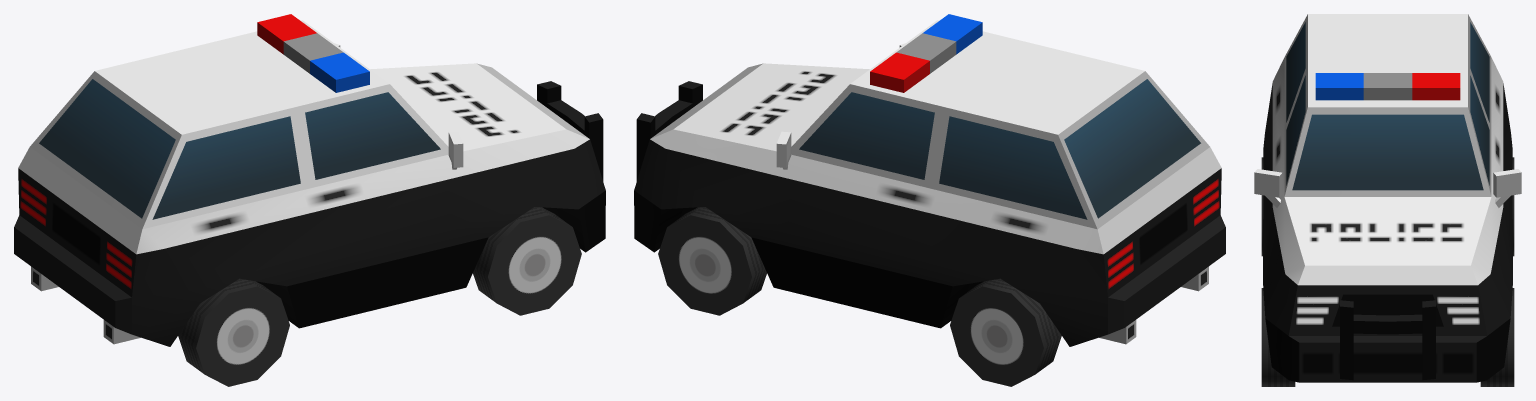
File: Emergency_034.glb
The picture shows the model from 3 angles, left to right: view 1: azimuth 30°, elevation 25°; view 2: azimuth 150°, elevation 25°; view 3: azimuth 270°, elevation 25°; orthographic projection. The views are drawn at different scales.
Visible parts, largest first — view 1: Emergency_034, wheel_3_Emergency_034_Wheel_2R, wheel_1_Emergency_034_Wheel_1R; view 2: Emergency_034, wheel_2_Emergency_034_Wheel_2L, wheel_0_Emergency_034_Wheel_1L; view 3: Emergency_034, wheel_0_Emergency_034_Wheel_1L, wheel_1_Emergency_034_Wheel_1R.
Boxes of the visible parts, x1=… form: Emergency_034: x1=14, y1=14, x2=605, y2=346; wheel_3_Emergency_034_Wheel_2R: x1=178, y1=278, x2=289, y2=386; wheel_1_Emergency_034_Wheel_1R: x1=473, y1=207, x2=581, y2=315; Emergency_034: x1=634, y1=14, x2=1225, y2=346; wheel_2_Emergency_034_Wheel_2L: x1=950, y1=278, x2=1061, y2=386; wheel_0_Emergency_034_Wheel_1L: x1=658, y1=207, x2=766, y2=315; Emergency_034: x1=1254, y1=14, x2=1521, y2=382; wheel_0_Emergency_034_Wheel_1L: x1=1480, y1=288, x2=1514, y2=386; wheel_1_Emergency_034_Wheel_1R: x1=1261, y1=288, x2=1295, y2=386.
Size of the model in its own units: 4 by 1.86 by 1.95.
Materials: 1 (1 with a texture image).
